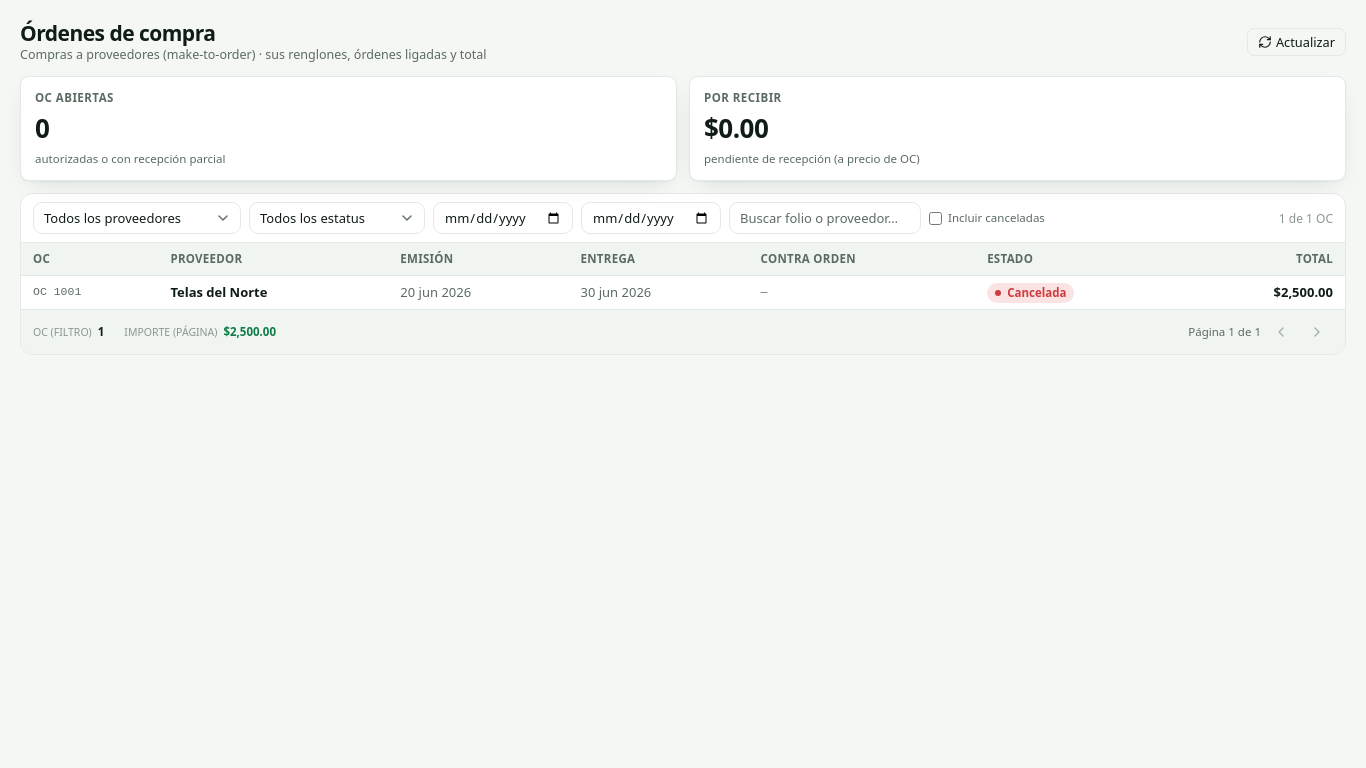
Test: OrdenesCompraPagina — imprimir sólo lo autorizado (V1-E4e) › en una CANCELADA tampoco, y con su propio motivo (§Post-F9.101(d))
Click the row with test id "fila-oc" at (219, 292), box [21, 275, 1345, 309]
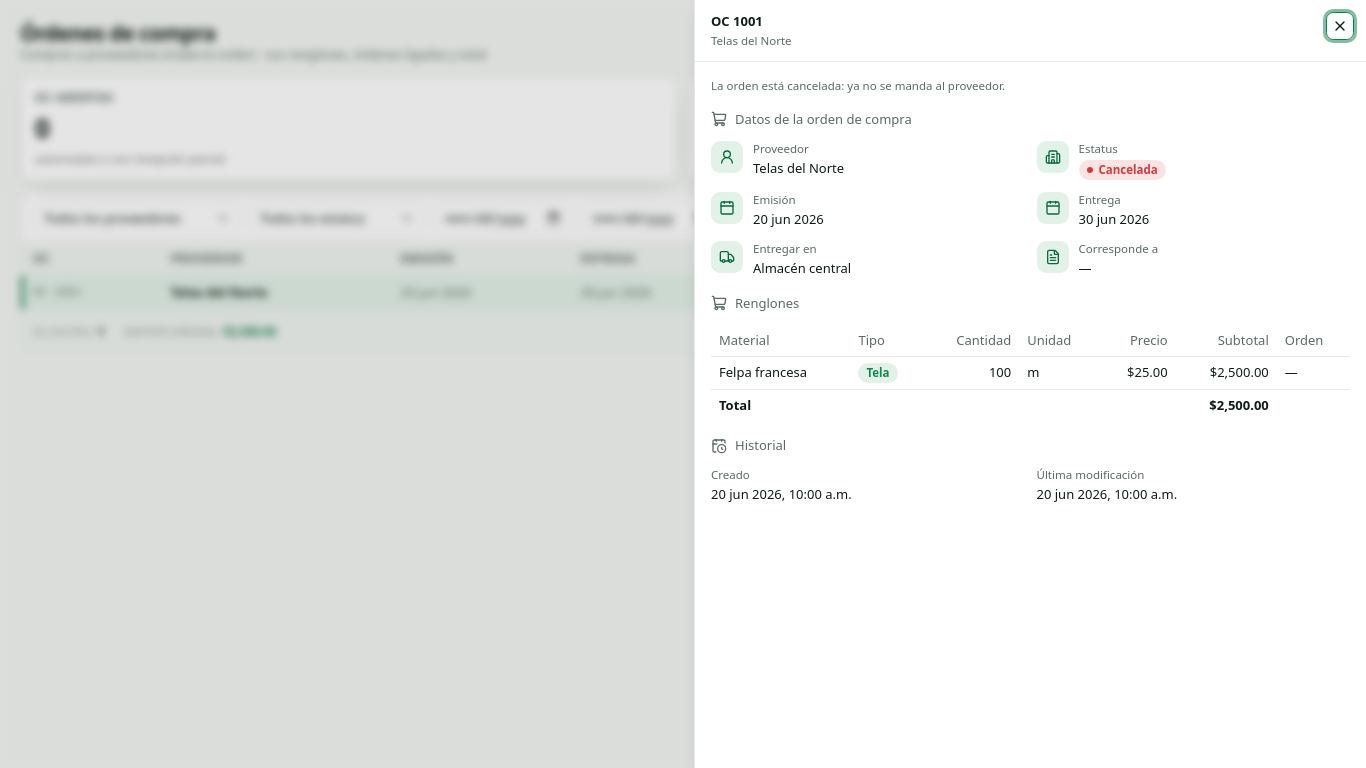
Check: the text with test id "oc-sin-imprimir" shows "La orden está cancelada", box [711, 78, 1005, 93]
